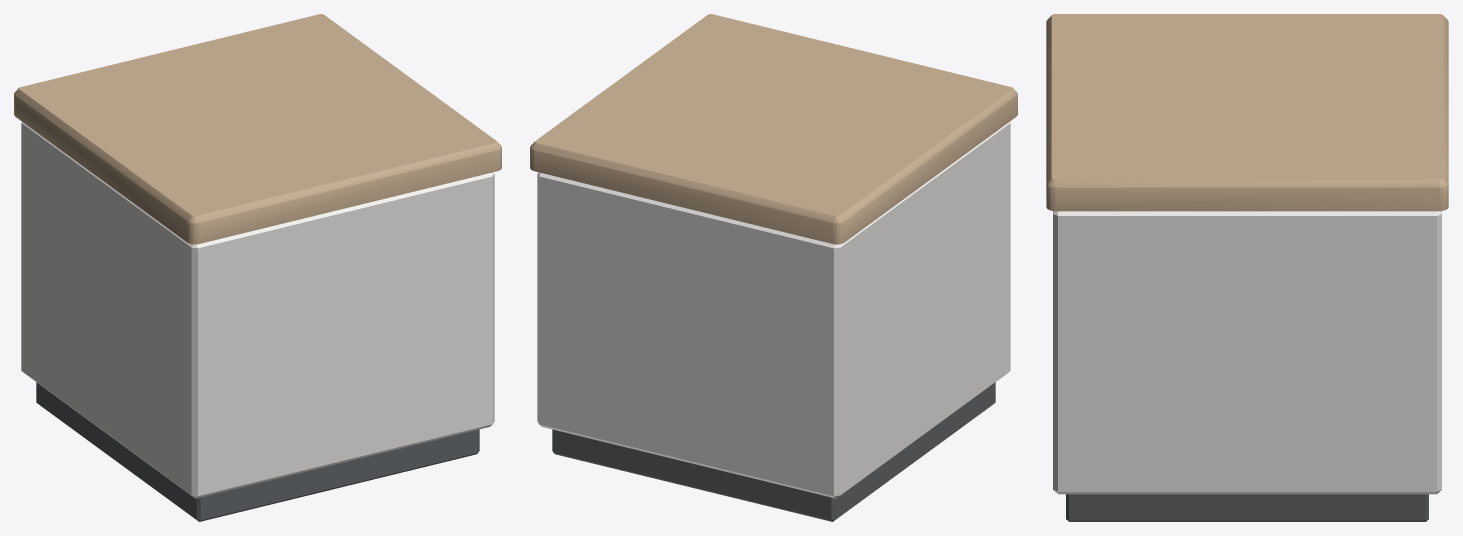
The picture shows the model from 3 angles, left to right: view 1: azimuth 30°, elevation 25°; view 2: azimuth 150°, elevation 25°; view 3: azimuth 270°, elevation 25°; orthographic projection. The views are drawn at different scales.
Parts seen in each view (by area): view 1: cube-display-block; view 2: cube-display-block; view 3: cube-display-block.
Boxes of the visible parts, <box> form: cube-display-block: <box>14,14,501,521</box>; cube-display-block: <box>530,14,1017,521</box>; cube-display-block: <box>1046,14,1448,521</box>.
Size of the model in its own units: 0.62 by 0.595 by 0.62.
